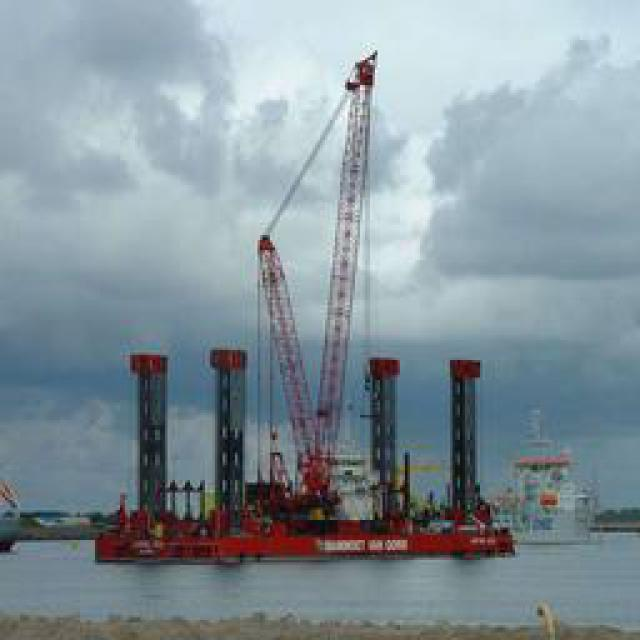Ship: (95, 497, 528, 565)
